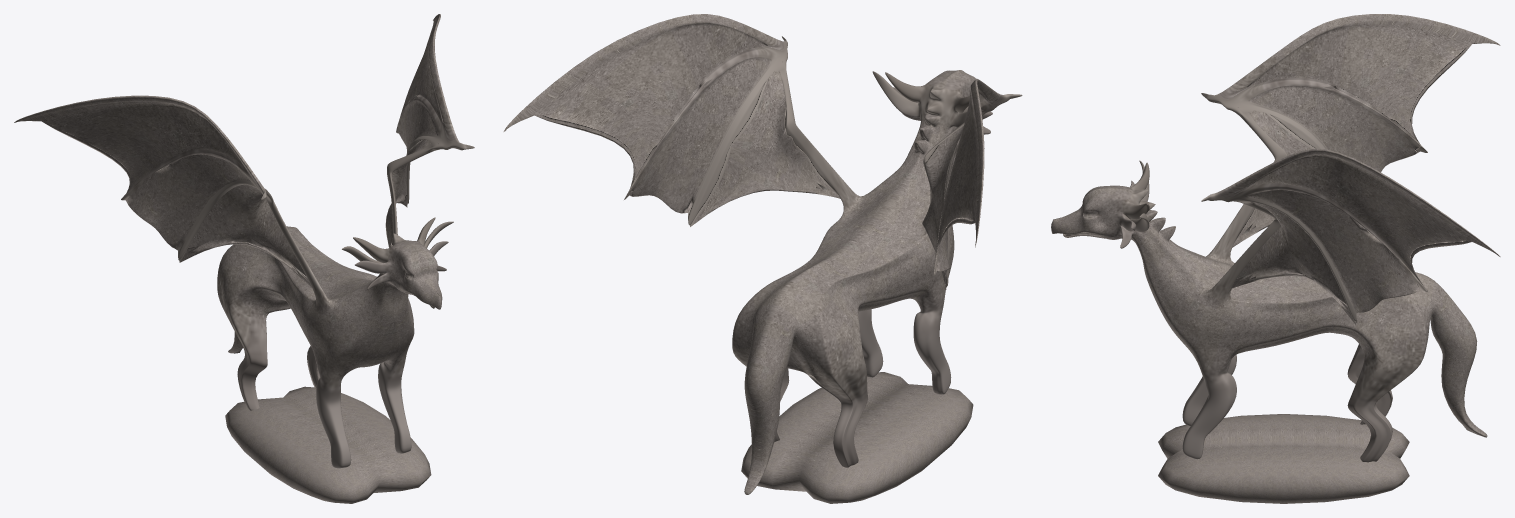
File: statue.fbx
3 renders of one model, left to right at view 1: azimuth 30°, elevation 25°; view 2: azimuth 150°, elevation 25°; view 3: azimuth 270°, elevation 25°, orthographic. The views are drawn at different scales.
Parts seen in each view (by area): view 1: Cube; view 2: Cube; view 3: Cube.
Boxes of the visible parts, x1=… form: Cube: x1=14, y1=14, x2=474, y2=503; Cube: x1=503, y1=14, x2=1022, y2=503; Cube: x1=1051, y1=14, x2=1500, y2=503.
Bounding box in the file's own units: 8.1 × 7.06 × 7.27.
